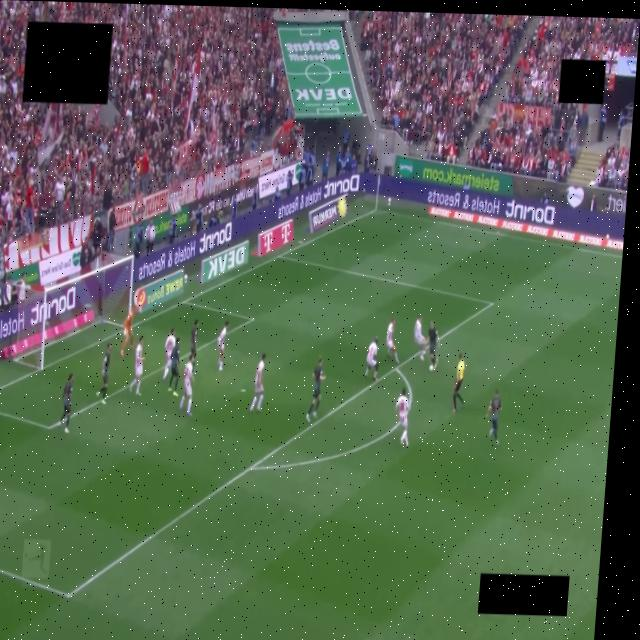ball: (429, 365, 433, 372)
player: (306, 357, 324, 422), (249, 354, 265, 412), (129, 337, 144, 396), (179, 354, 193, 415), (96, 343, 110, 403), (486, 389, 501, 444), (59, 373, 72, 433), (395, 388, 408, 446), (162, 328, 175, 381), (168, 338, 179, 396), (364, 337, 378, 381), (385, 318, 398, 364), (120, 309, 133, 355), (413, 315, 426, 360), (427, 321, 439, 368), (217, 320, 228, 370), (190, 319, 198, 373)
referee: (452, 352, 464, 412)
